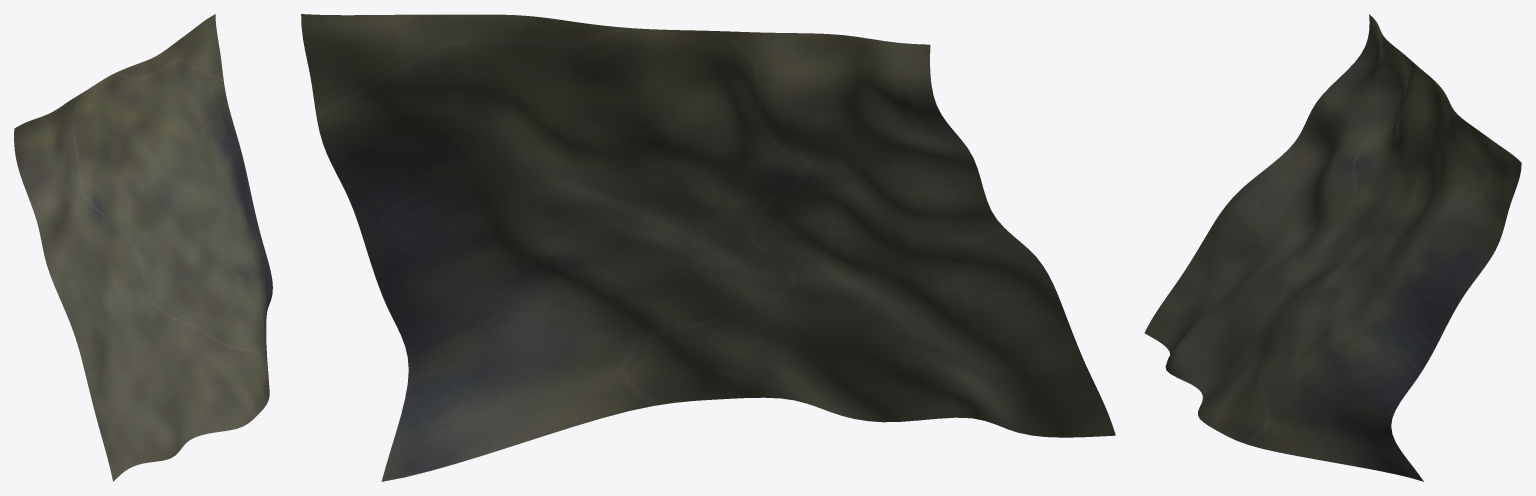
The model's file is ground_mid_01_01.obj.
3 renders of one model, left to right at view 1: azimuth 30°, elevation 25°; view 2: azimuth 150°, elevation 25°; view 3: azimuth 270°, elevation 25°, orthographic. The views are drawn at different scales.
Visible parts, largest first — view 1: ground_mid_01_01; view 2: ground_mid_01_01; view 3: ground_mid_01_01.
Boxes of the visible parts, x1,y1,x2,y2 form: ground_mid_01_01: (14,14,272,481); ground_mid_01_01: (301,14,1115,481); ground_mid_01_01: (1144,14,1521,481).
Size of the model in its own units: 200 by 200 by 214.
Materials: 1 (1 with a texture image).
